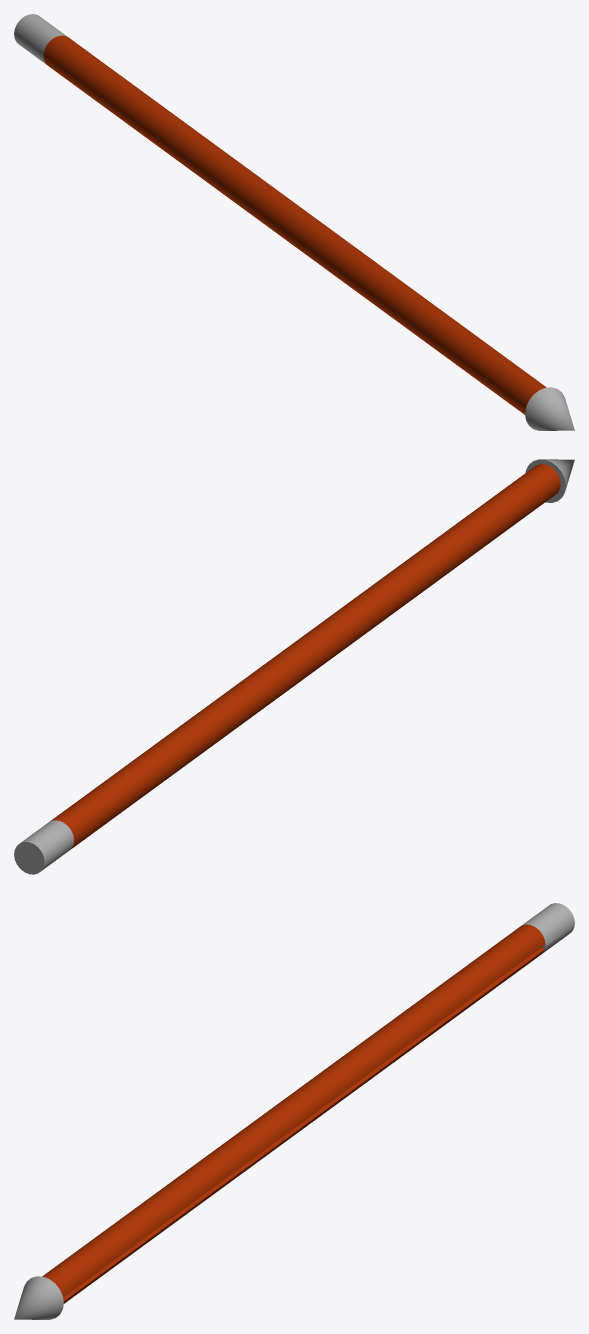
File: arrow.fbx
3 renders of one model, top to bottom at view 1: azimuth 30°, elevation 25°; view 2: azimuth 150°, elevation 25°; view 3: azimuth 330°, elevation 25°, orthographic.
Parts seen in each view (by area): view 1: pCone2; view 2: pCone2; view 3: pCone2.
Part boxes in pixels (x1,y1,x2,y2): pCone2: (14,14,574,430); pCone2: (14,459,574,874); pCone2: (14,903,574,1319).
Bounding box in the file's own units: 0.16 × 0.16 × 3.7.
